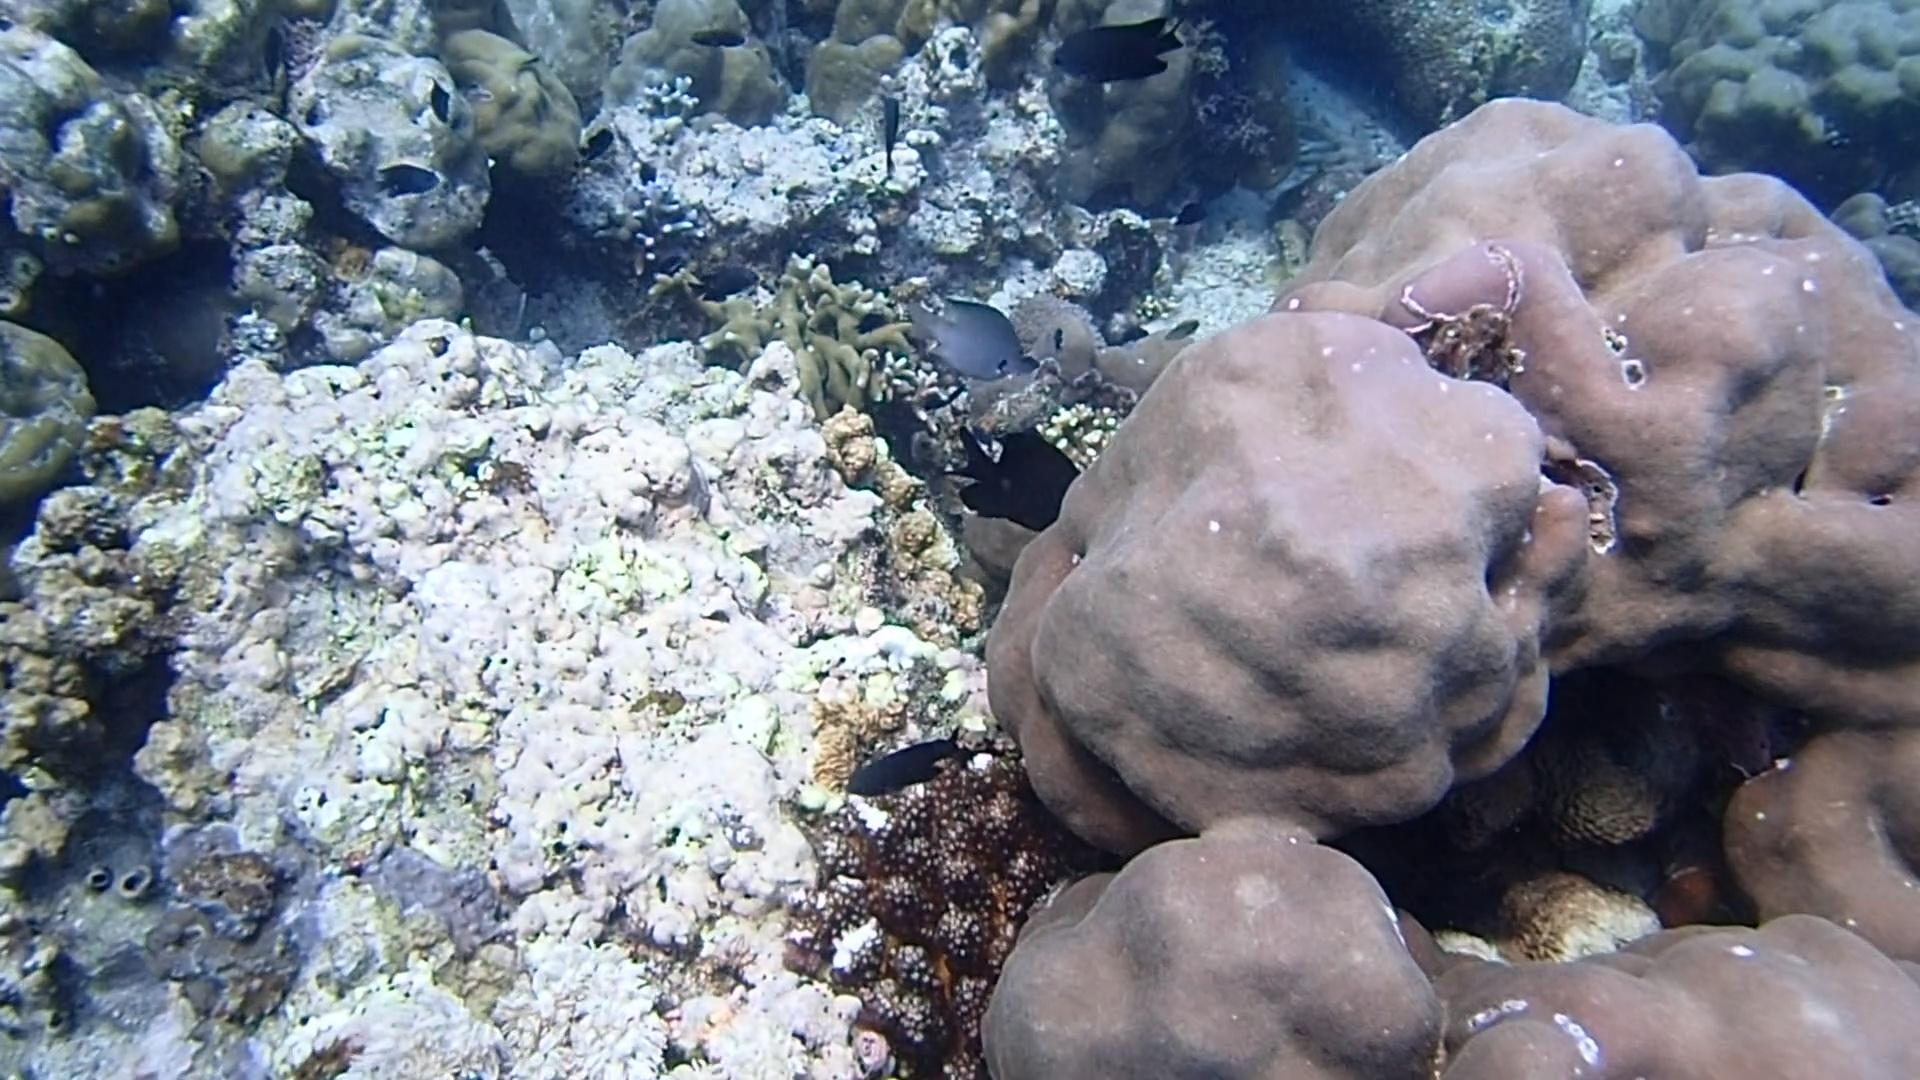Dark Fish: (944, 414, 1085, 543), (1042, 8, 1184, 94), (840, 733, 955, 802), (365, 154, 446, 207), (687, 260, 764, 306), (873, 92, 910, 177), (253, 21, 297, 91), (417, 73, 471, 127), (570, 123, 620, 165), (849, 303, 891, 343)
Light Fish - Dark Fin: (894, 285, 1047, 393)
